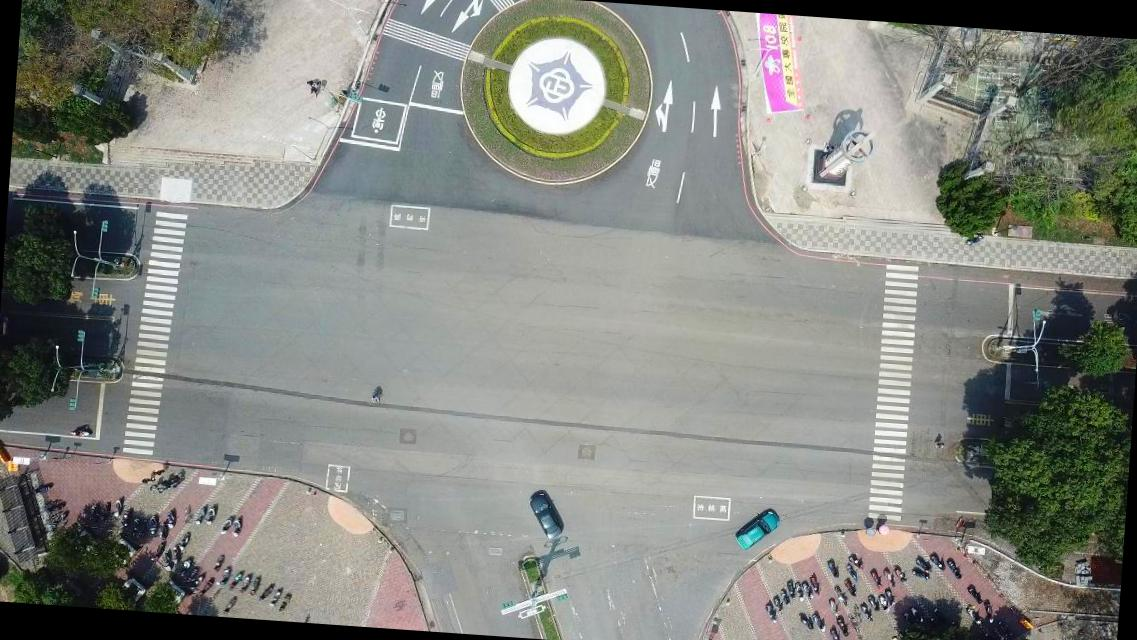vehicle: (732, 504, 782, 553), (522, 487, 565, 541)
